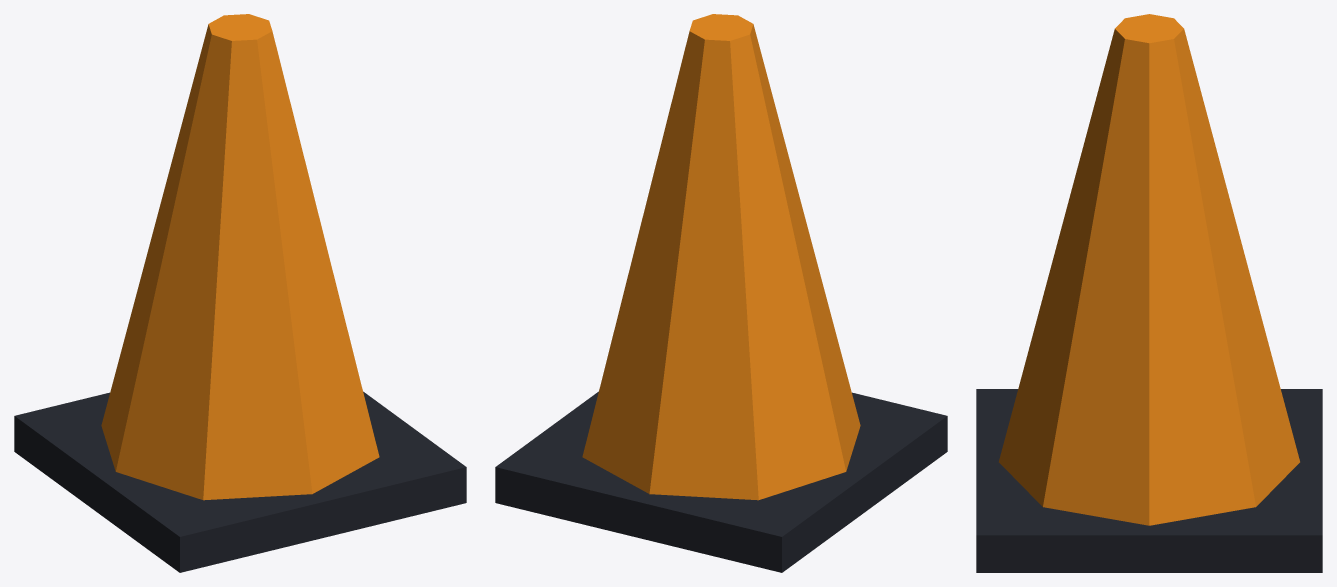
The model's file is traffic_cone.fbx.
The picture shows the model from 3 angles, left to right: view 1: azimuth 30°, elevation 25°; view 2: azimuth 150°, elevation 25°; view 3: azimuth 270°, elevation 25°; orthographic projection. The views are drawn at different scales.
Visible parts, largest first — view 1: traffic_cone; view 2: traffic_cone; view 3: traffic_cone.
Part boxes in pixels (box(x1,y1,x2,y2)): traffic_cone: box(14, 14, 466, 572); traffic_cone: box(495, 14, 947, 572); traffic_cone: box(976, 14, 1322, 572).
Bounding box in the file's own units: 0.5 × 0.75 × 0.5.
